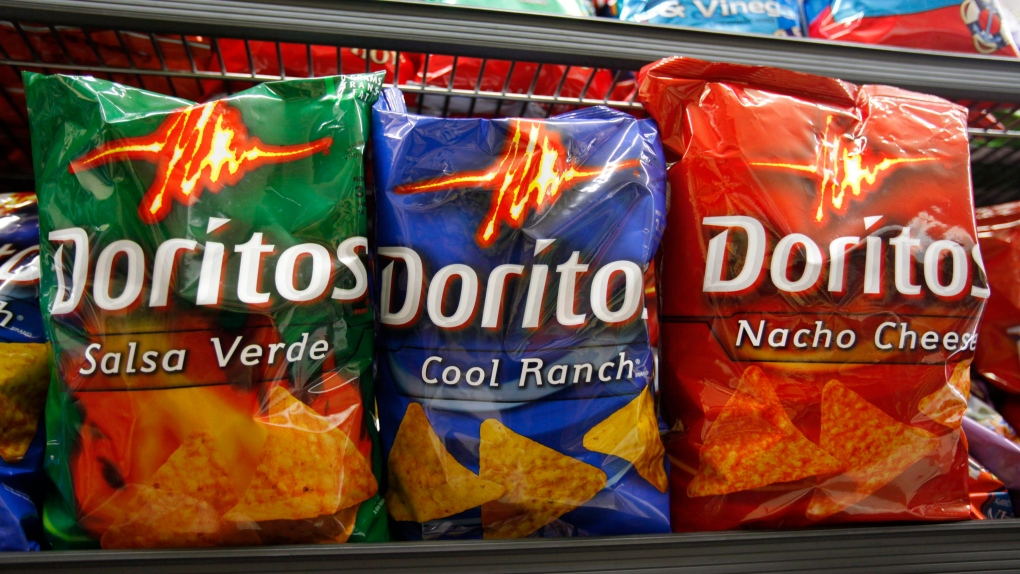chip: (21, 60, 360, 549), (666, 58, 966, 520), (376, 92, 649, 546)
